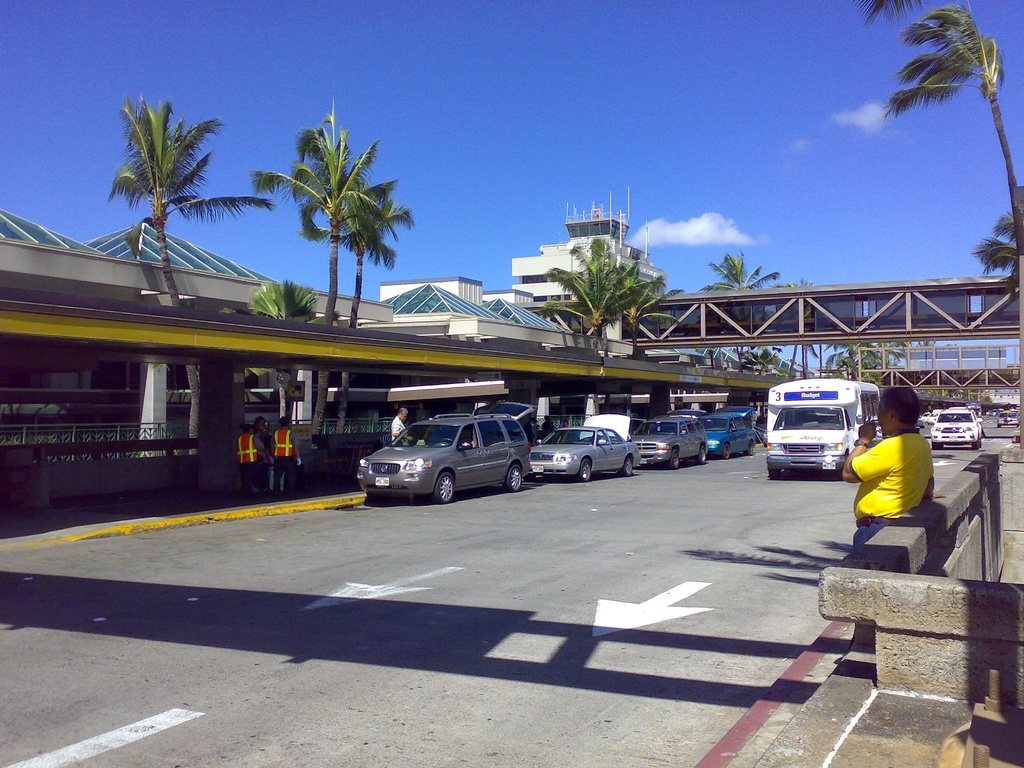mobil: (356, 412, 532, 494), (533, 421, 638, 487), (633, 413, 709, 474)
